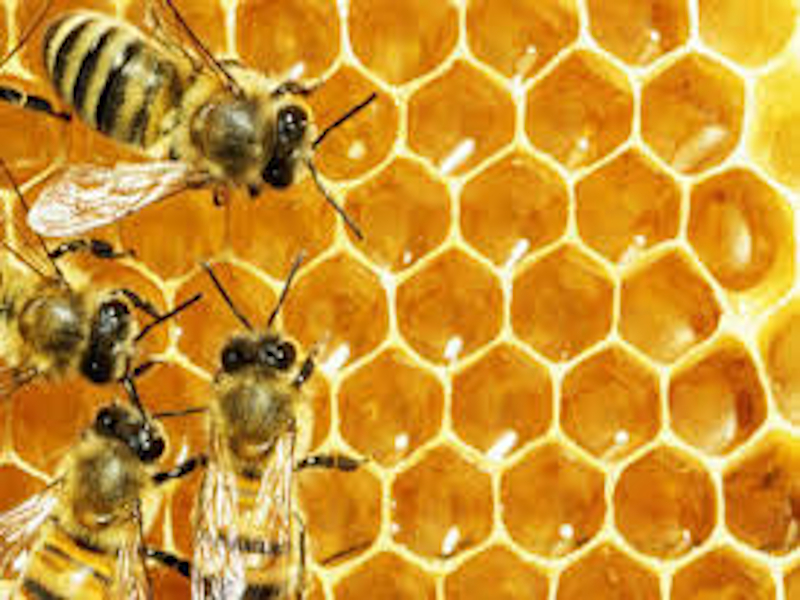abeja: (1, 8, 388, 256), (177, 251, 363, 600), (1, 384, 211, 597), (1, 259, 172, 411)
